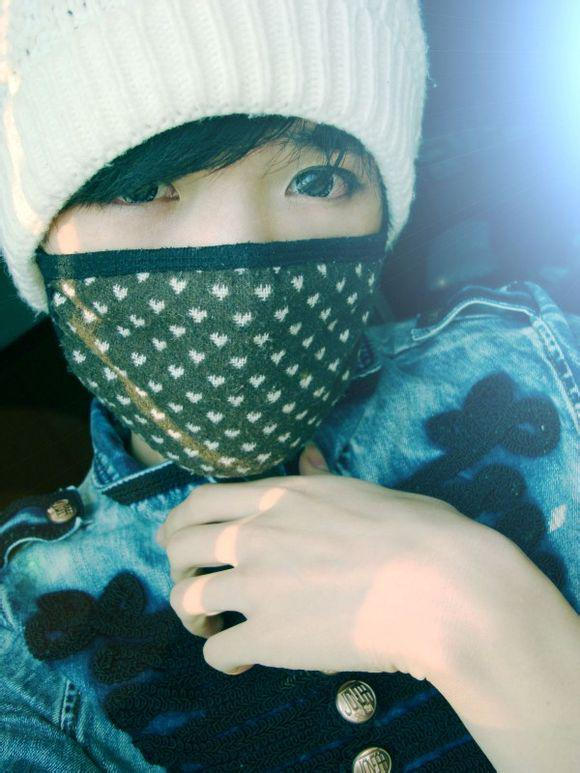OK: (68, 131, 380, 463)
